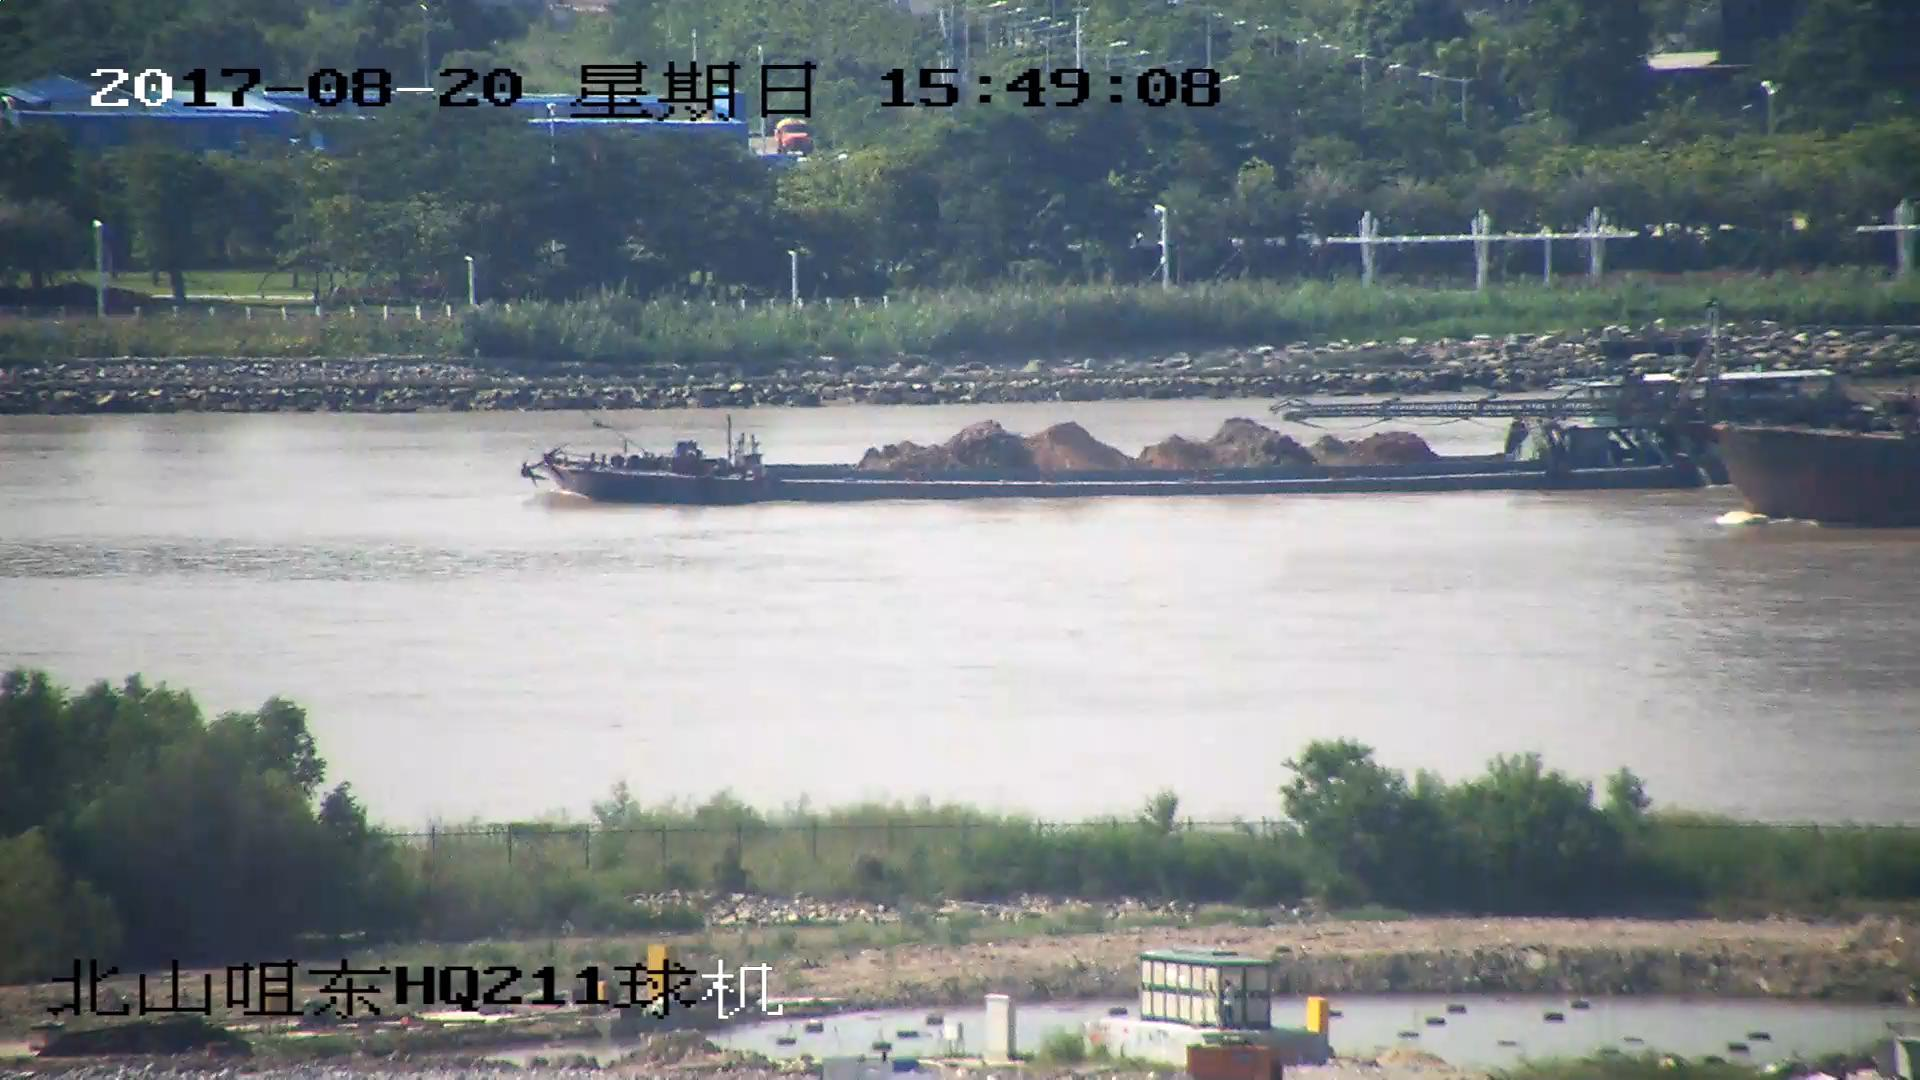Ship: (527, 359, 1866, 509), (1290, 320, 1920, 531)
